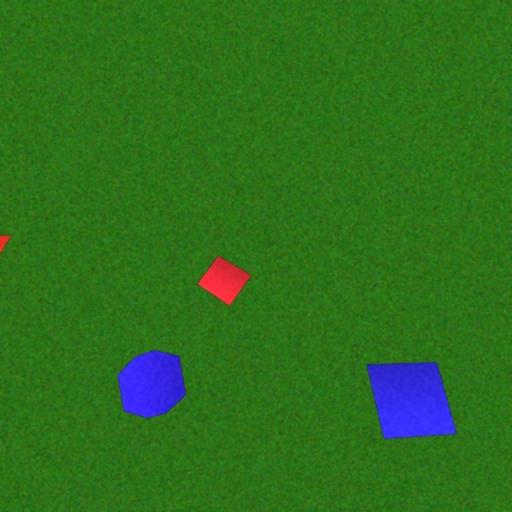BLUE_SQUARE: (366, 361, 458, 440)
RED_SQUARE: (196, 254, 252, 306)
